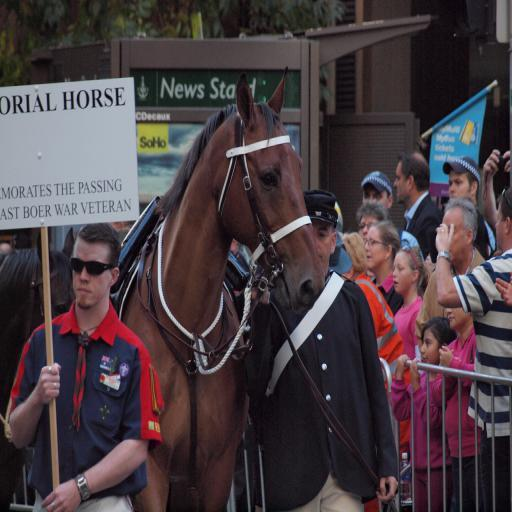Horse: (122, 64, 327, 512), (0, 223, 76, 512)
